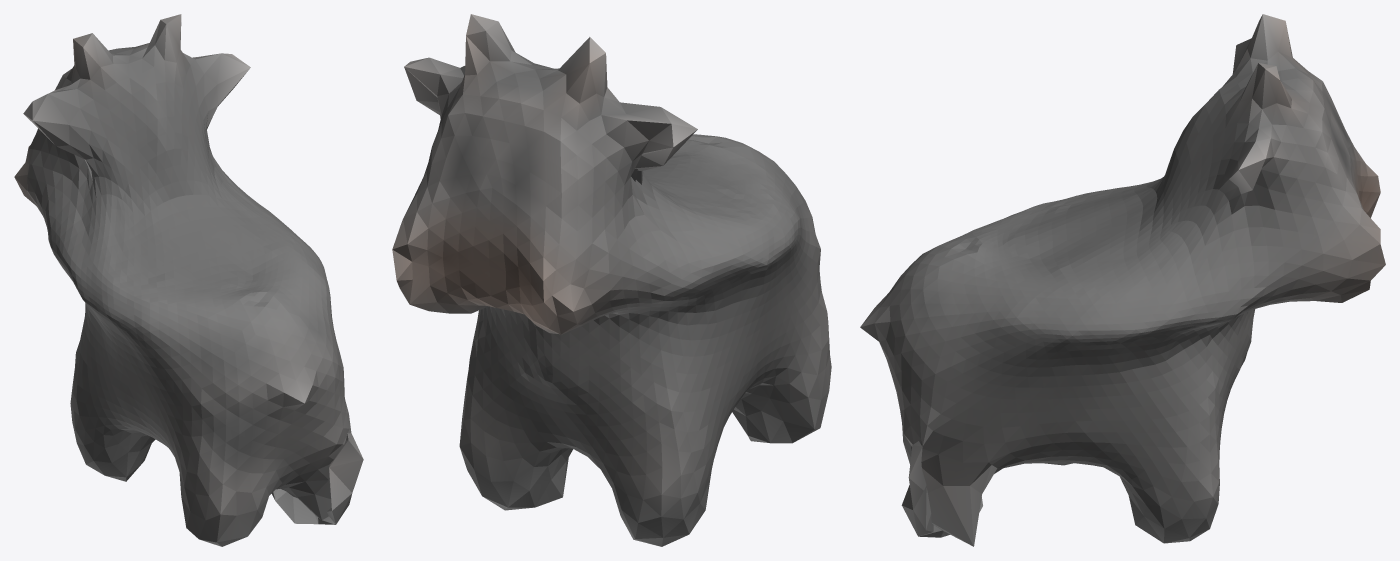
File: colored_mesh_iter_0350.obj
3 views of the same model, side by side, from view 1: azimuth 30°, elevation 25°; view 2: azimuth 150°, elevation 25°; view 3: azimuth 270°, elevation 25° (orthographic). The views are drawn at different scales.
Size of the model in its own units: 1.13 by 2 by 2.
